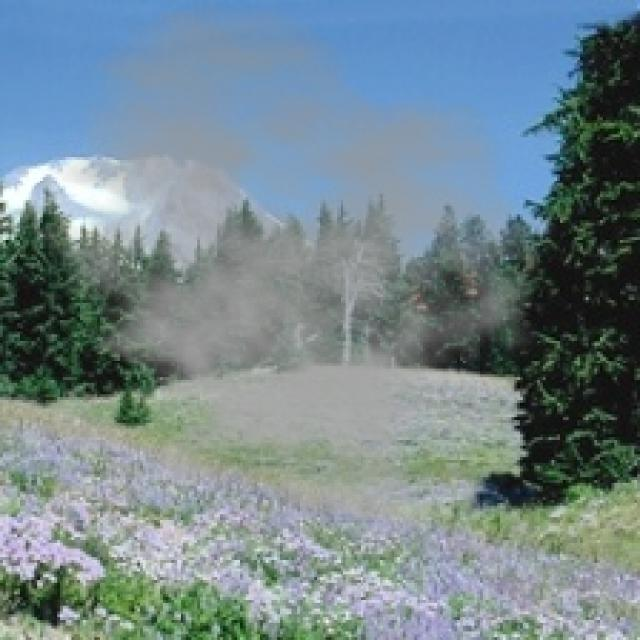smoke: (6, 0, 560, 529)
